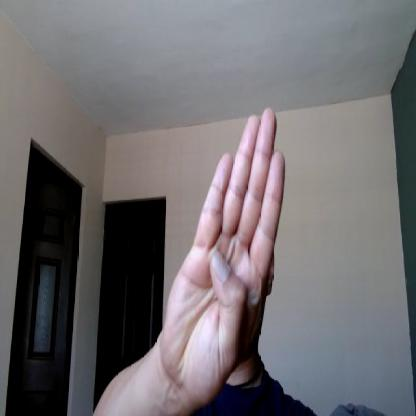B: (161, 105, 285, 405)
